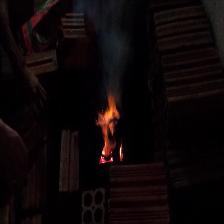fire: (97, 101, 124, 155)
smoke: (100, 22, 122, 88)
